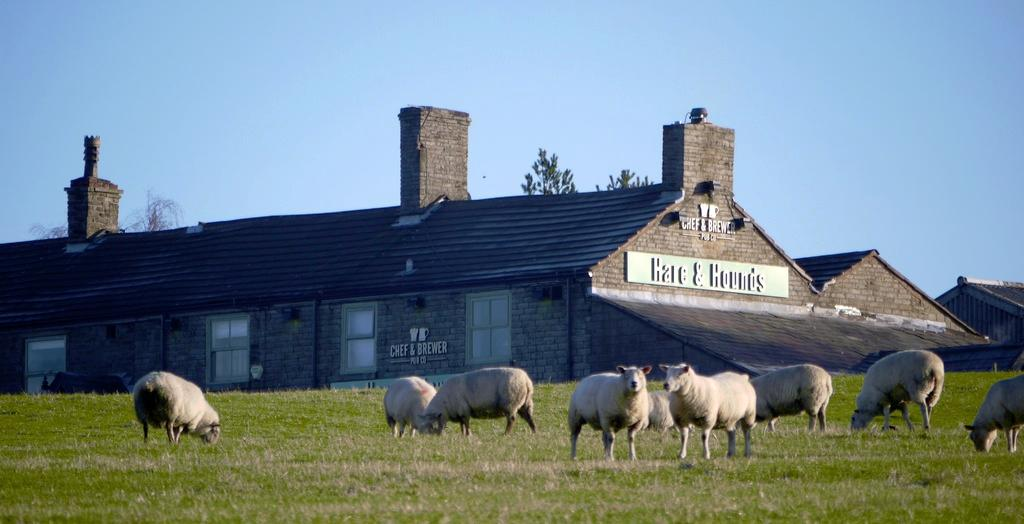Sheep: (661, 366, 755, 462), (848, 349, 946, 436), (566, 364, 649, 465), (414, 368, 536, 436), (131, 367, 223, 446), (745, 364, 834, 430), (965, 378, 1023, 450), (380, 375, 435, 438), (649, 384, 675, 435)
